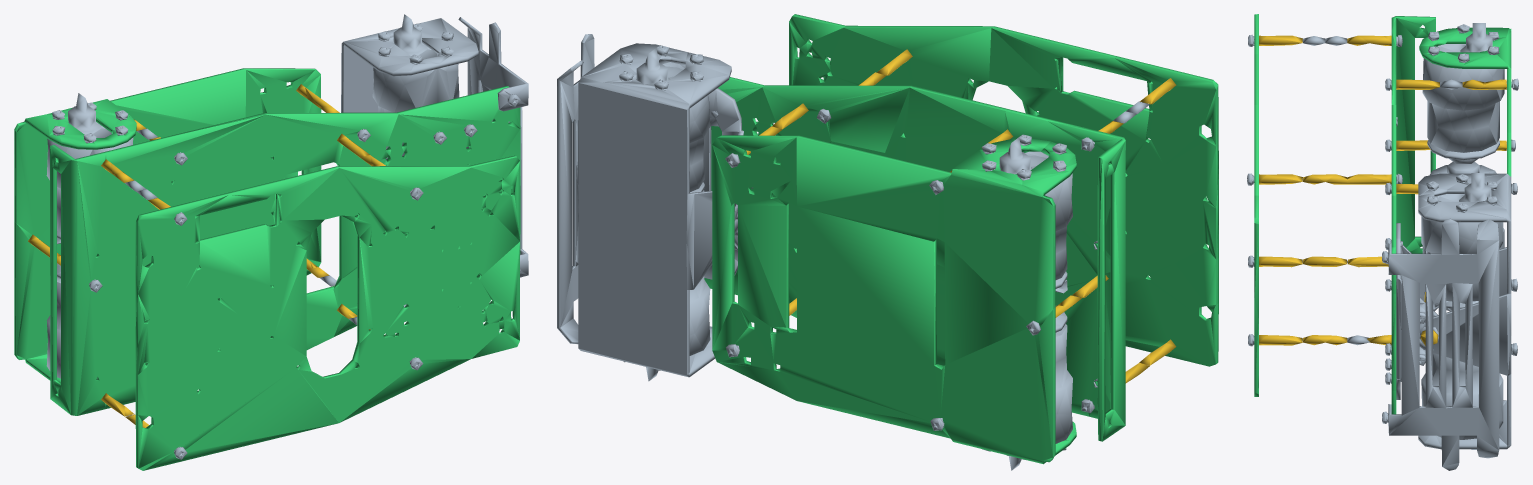
Rendered from body.obj.
3 renders of one model, left to right at view 1: azimuth 30°, elevation 25°; view 2: azimuth 150°, elevation 25°; view 3: azimuth 270°, elevation 25°, orthographic. The views are drawn at different scales.
Parts seen in each view (by area): view 1: lab_robot_base; view 2: lab_robot_base; view 3: lab_robot_base.
Boxes of the visible parts, left/top/right/bottom form: lab_robot_base: left=14, top=14, right=528, bottom=470; lab_robot_base: left=557, top=14, right=1218, bottom=470; lab_robot_base: left=1247, top=14, right=1518, bottom=470.
Size of the model in its own units: 0.2275 by 0.138 by 0.1228.
